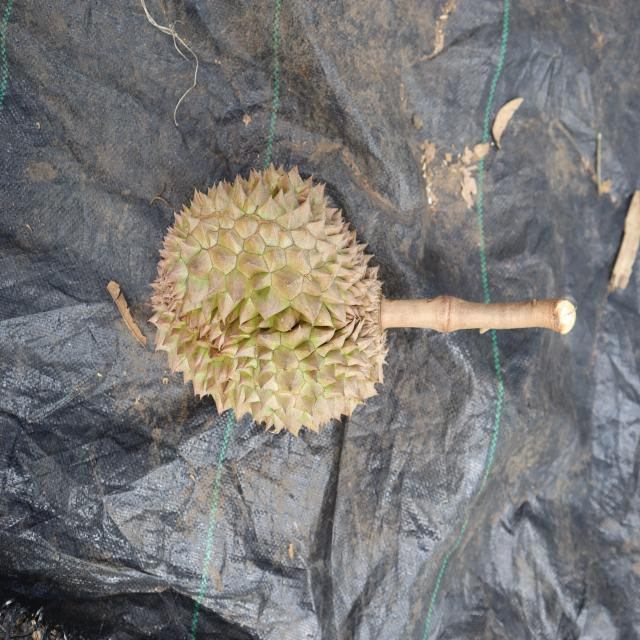mature: (147, 162, 389, 436)
